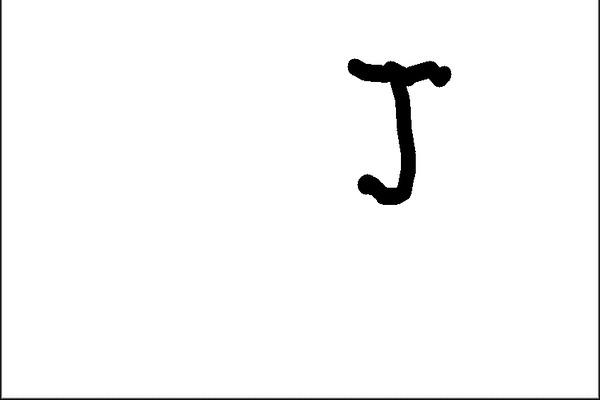J: (339, 50, 458, 209)
